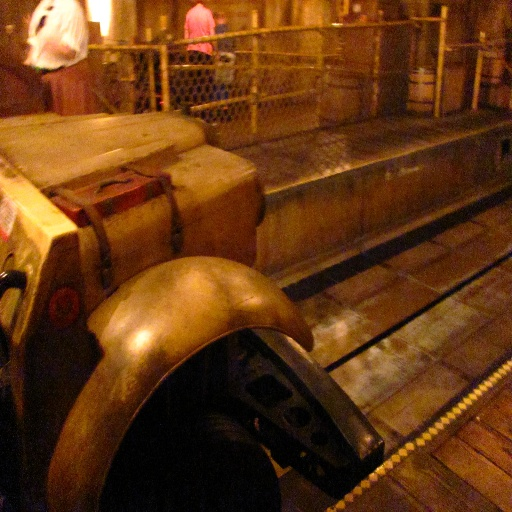hand: (215, 54, 220, 59)
